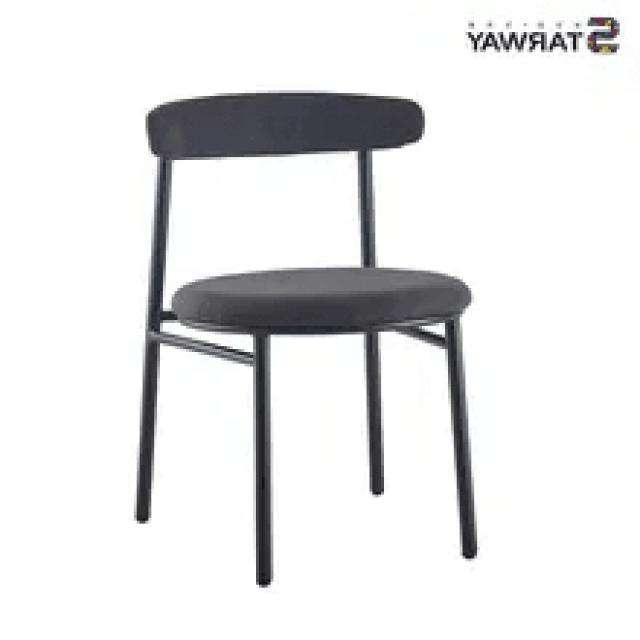chair: (132, 83, 485, 588), (143, 88, 472, 336)
